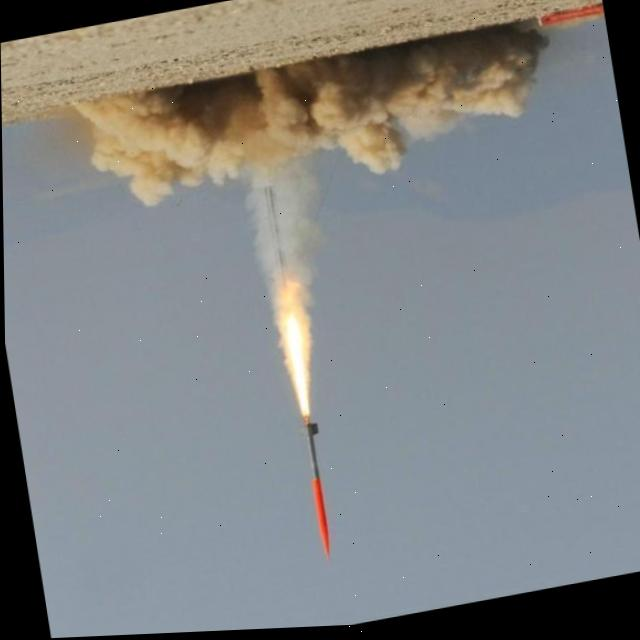missile: (298, 415, 340, 560)
